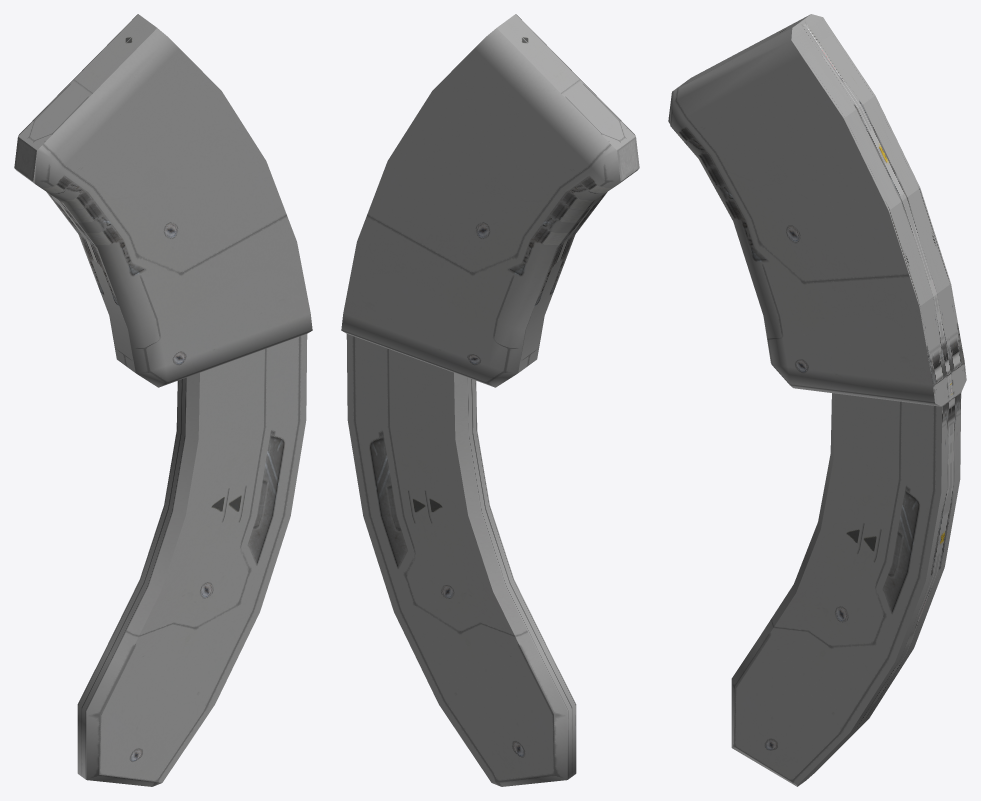
The model's file is SM_SPillarS04cc2.fbx.
3 renders of one model, left to right at view 1: azimuth 30°, elevation 25°; view 2: azimuth 150°, elevation 25°; view 3: azimuth 330°, elevation 25°, orthographic.
Visible parts, largest first — view 1: SM_SPillarS04cc2_LOD0; view 2: SM_SPillarS04cc2_LOD0; view 3: SM_SPillarS04cc2_LOD0.
Part boxes in pixels (left/top/right/bottom): SM_SPillarS04cc2_LOD0: left=14, top=14, right=312, bottom=786; SM_SPillarS04cc2_LOD0: left=341, top=14, right=639, bottom=786; SM_SPillarS04cc2_LOD0: left=668, top=14, right=966, bottom=786.
Bounding box in the file's own units: 125 × 25 × 332.
1 material, 1 textured.
